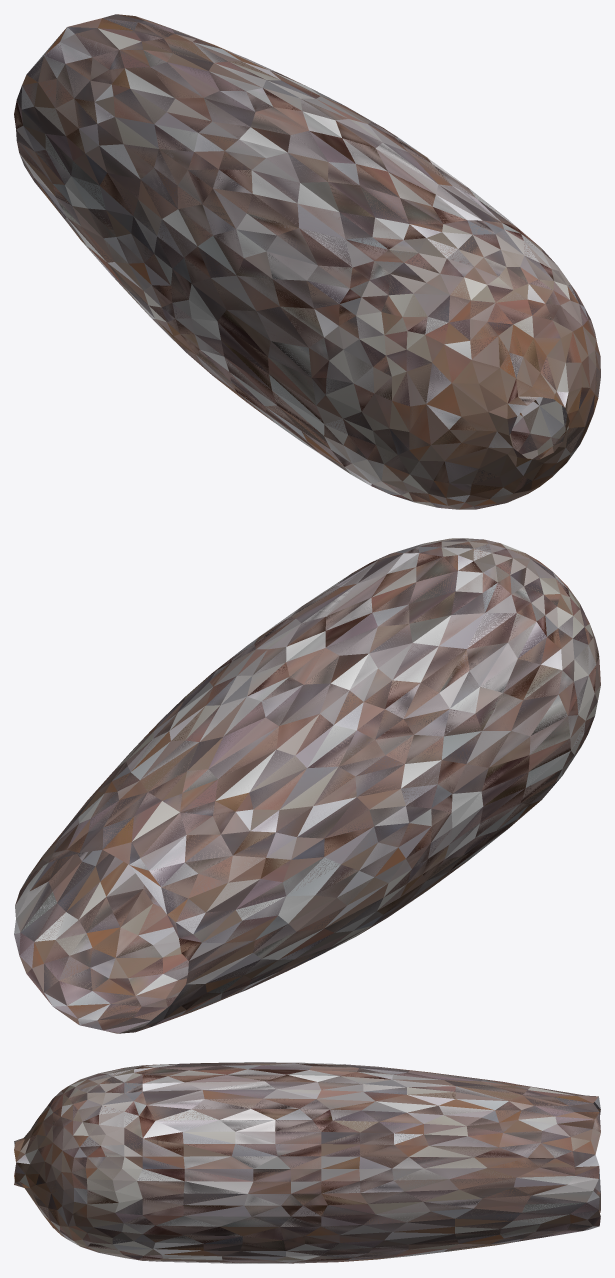
The model's file is model_align.obj.
3 renders of one model, top to bottom at view 1: azimuth 30°, elevation 25°; view 2: azimuth 150°, elevation 25°; view 3: azimuth 270°, elevation 25°, orthographic. The views are drawn at different scales.
Size of the model in its own units: 0.0652 by 0.0652 by 0.19.
Materials: 1 (1 with a texture image).
